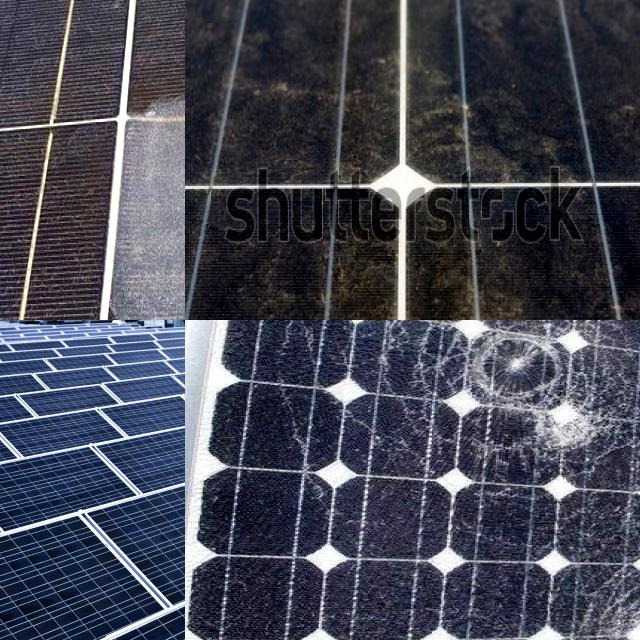crack: (0, 504, 174, 640), (0, 456, 153, 556), (85, 477, 185, 628), (0, 467, 73, 634), (96, 431, 185, 517), (0, 409, 131, 459), (97, 401, 185, 446), (0, 433, 84, 477), (92, 376, 185, 414)
dust: (419, 0, 577, 175), (250, 0, 399, 182), (413, 193, 528, 320), (570, 0, 640, 175), (214, 188, 303, 320), (185, 0, 250, 180), (555, 192, 629, 320), (411, 0, 640, 37), (341, 192, 386, 320), (185, 0, 350, 32), (185, 193, 219, 320)
hotspot: (465, 320, 620, 466), (244, 320, 393, 371), (572, 542, 640, 640)
shadow: (109, 72, 185, 320)
